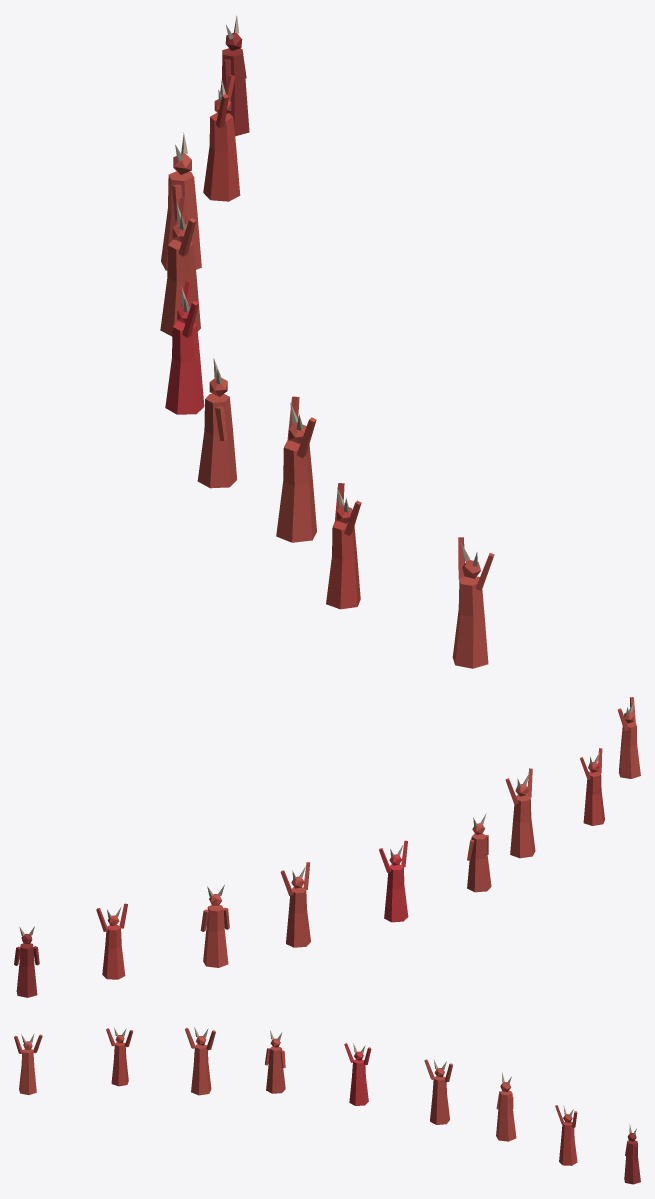
The model's file is Stands_5_0_0.obj.
3 renders of one model, top to bottom at view 1: azimuth 30°, elevation 25°; view 2: azimuth 150°, elevation 25°; view 3: azimuth 270°, elevation 25°, orthographic. The views are drawn at different scales.
Visible parts, largest first — view 1: Stands_5_0_0; view 2: Stands_5_0_0; view 3: Stands_5_0_0.
Boxes of the visible parts, <box> form: Stands_5_0_0: <box>160,15,494,668</box>; Stands_5_0_0: <box>14,697,640,997</box>; Stands_5_0_0: <box>14,1027,640,1184</box>.
Bounding box in the file's own units: 13.44 × 3.75 × 33.59.
Materials: 1 (1 with a texture image).
